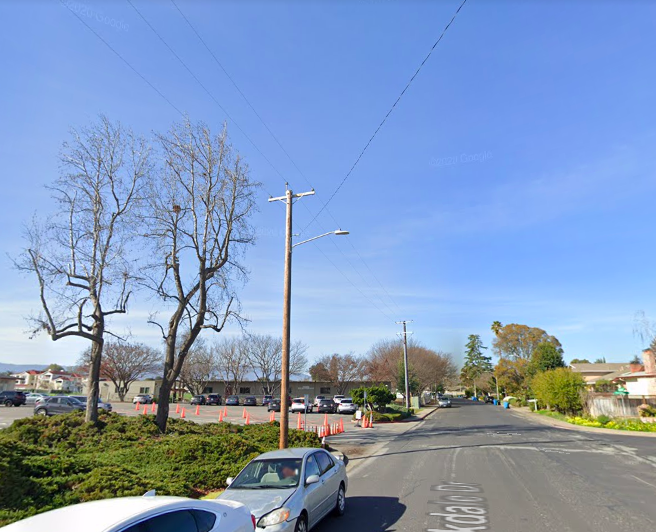utility_pole: (259, 175, 318, 217)
